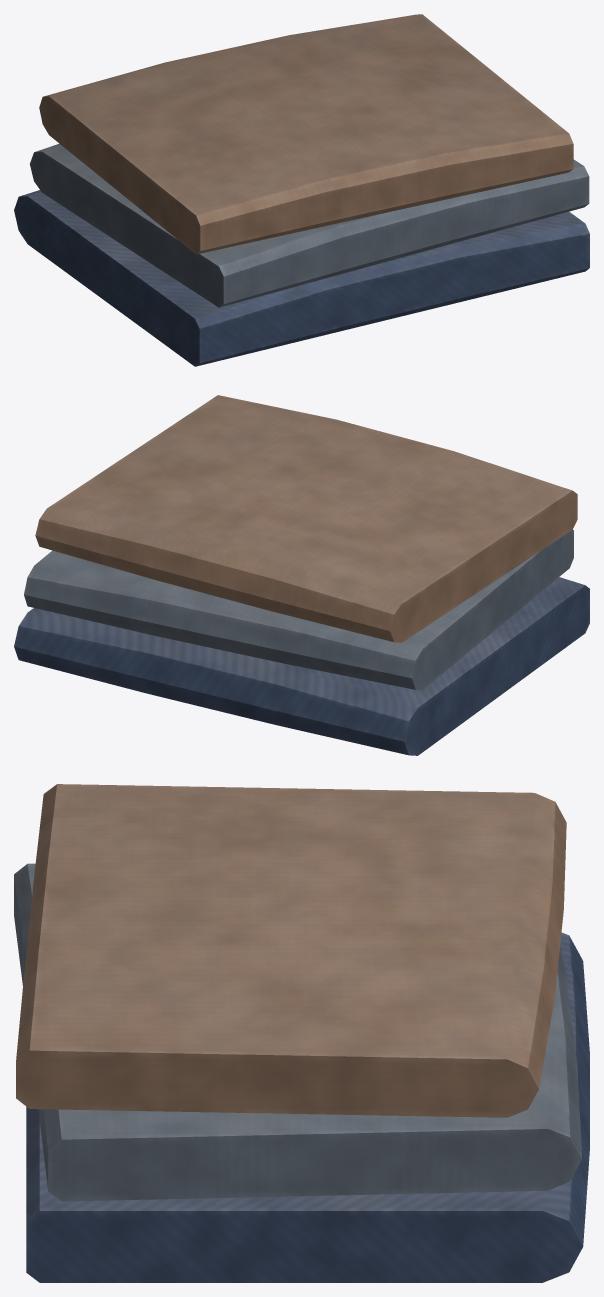
Rendered from Book 4.fbx.
The picture shows the model from 3 angles, top to bottom: view 1: azimuth 30°, elevation 25°; view 2: azimuth 150°, elevation 25°; view 3: azimuth 270°, elevation 25°; orthographic projection. The views are drawn at different scales.
Parts seen in each view (by area): view 1: file; view 2: file; view 3: file.
Boxes of the visible parts, x1,y1,x2,y2 form: file: (14, 14, 589, 366); file: (14, 395, 589, 755); file: (14, 784, 589, 1282).
Size of the model in its own units: 0.3051 by 0.1121 by 0.2554.
